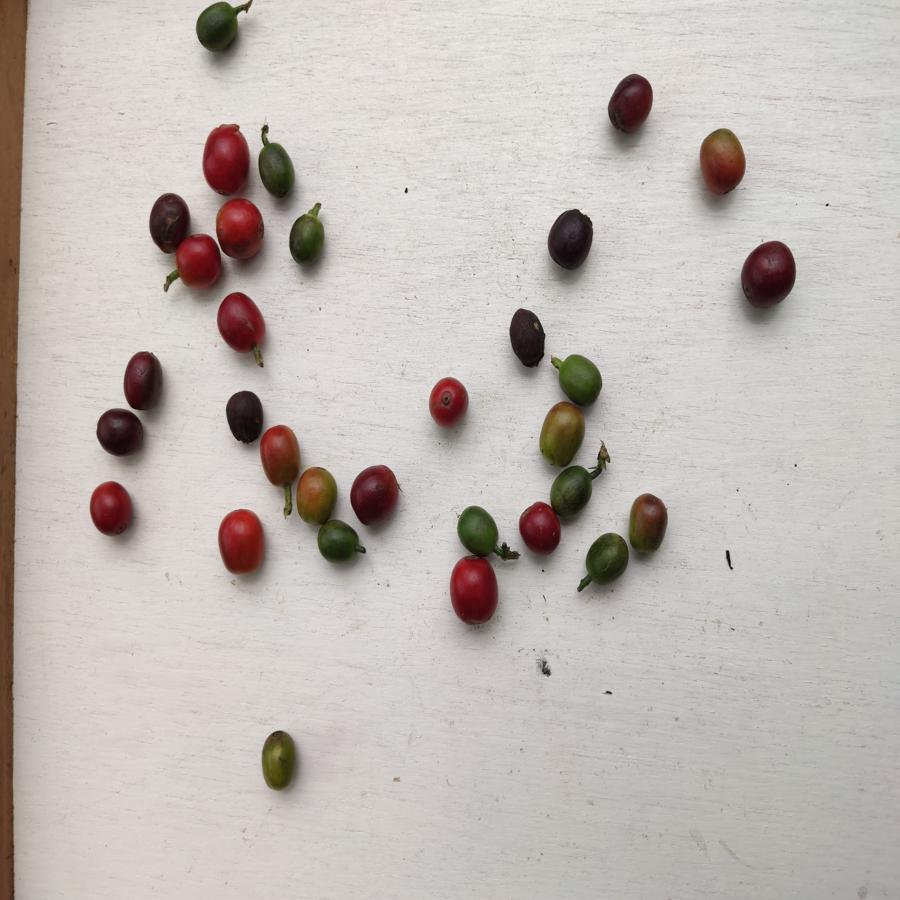Inmaduro: (257, 138, 299, 200), (546, 466, 596, 517), (196, 1, 243, 54), (583, 533, 628, 586), (457, 503, 501, 553), (561, 353, 603, 405), (289, 213, 328, 266), (318, 519, 360, 563)
Maduro: (215, 508, 272, 577), (447, 554, 500, 627), (198, 123, 249, 197), (215, 290, 265, 357), (218, 198, 264, 261), (90, 482, 133, 538), (428, 376, 470, 433), (259, 425, 300, 483), (178, 235, 221, 289)
Pinton: (698, 129, 747, 197), (538, 402, 585, 468), (259, 729, 299, 794), (628, 493, 668, 556), (294, 466, 339, 521)
Sobremaduro: (738, 236, 801, 315), (600, 71, 656, 138), (349, 463, 403, 523), (547, 206, 595, 273), (507, 304, 545, 373), (93, 408, 145, 457), (122, 351, 163, 413), (519, 504, 562, 558), (224, 388, 265, 443), (146, 193, 193, 239)
